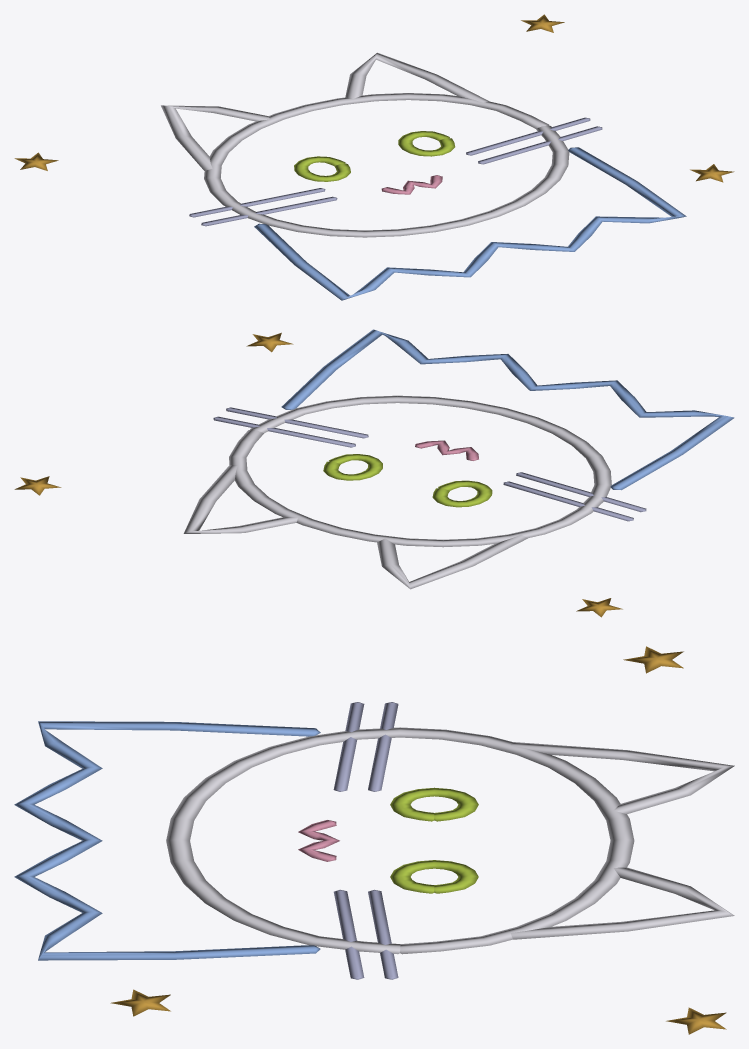
File: chalk_drawing.glb
3 views of the same model, one above another, from view 1: azimuth 30°, elevation 25°; view 2: azimuth 150°, elevation 25°; view 3: azimuth 270°, elevation 25° (orthographic). The views are drawn at different scales.
Visible parts, largest first — view 1: chalk_drawing; view 2: chalk_drawing; view 3: chalk_drawing.
Boxes of the visible parts, <box> form: chalk_drawing: <box>14,14,734,300</box>; chalk_drawing: <box>14,329,734,617</box>; chalk_drawing: <box>14,646,734,1034</box>.
Bounding box in the file's own units: 1.08 × 0.0046 × 0.8436.
